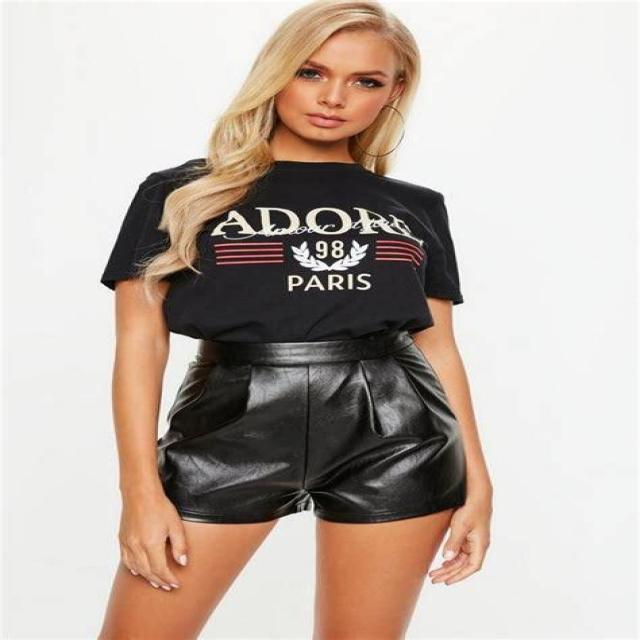Tshirt: (101, 153, 463, 340)
short: (153, 338, 471, 524)
